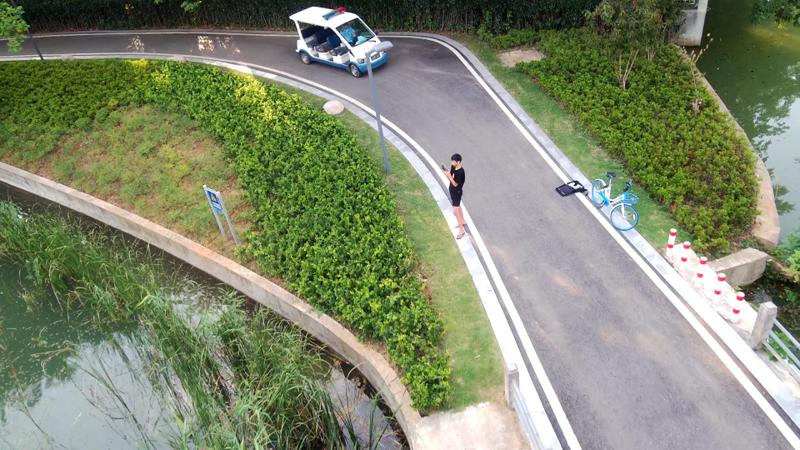passerby: (440, 152, 469, 241)
